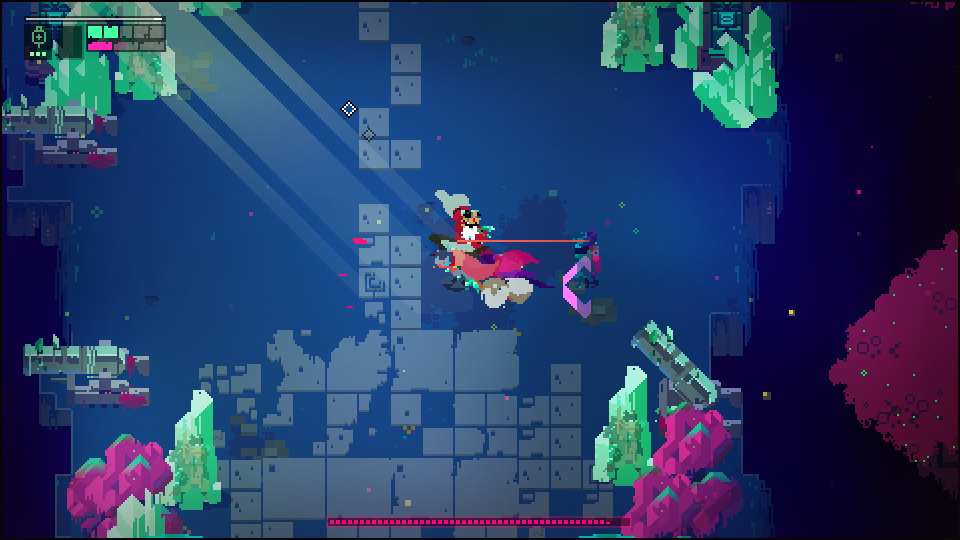hanged_man: (429, 186, 517, 296)
player: (429, 241, 500, 283)
